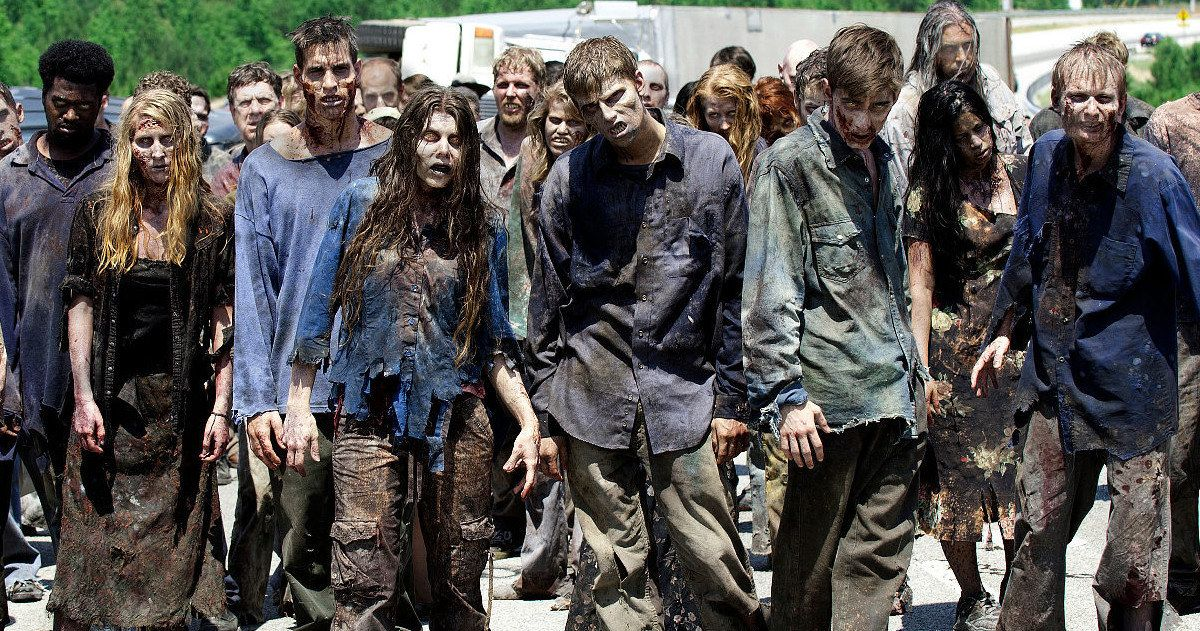human: (520, 40, 764, 625), (979, 36, 1199, 624), (741, 24, 945, 627), (322, 87, 518, 623), (224, 15, 392, 626)
